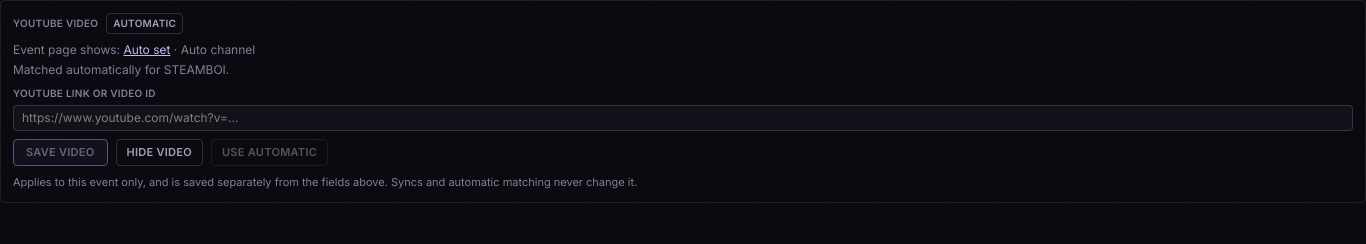
Test case: EventYoutubePanel — actions › an invalid link is refused in the browser and never sent
The image size is (1366, 244).
Type "https://vimeo.com/123" into the field labelled "YouTube link or video id" at (683, 118), box [13,105,1353,131]
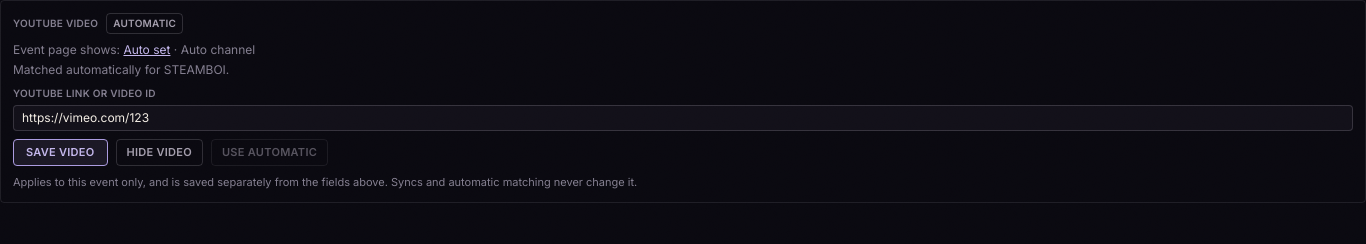
Click the button "Save video" at (60, 152), box [13,139,108,166]
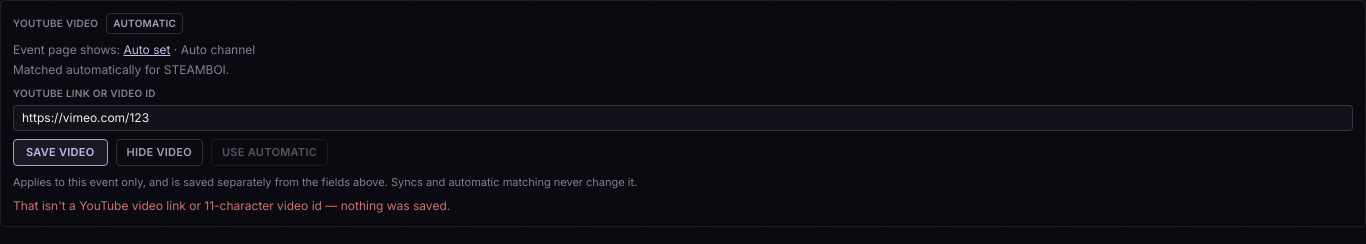
Check: the text with test id "youtube-status" reads "Automatic", box [113,17,176,29]
Check: the message shows "isn't a YouTube video link", box [13,198,450,213]
